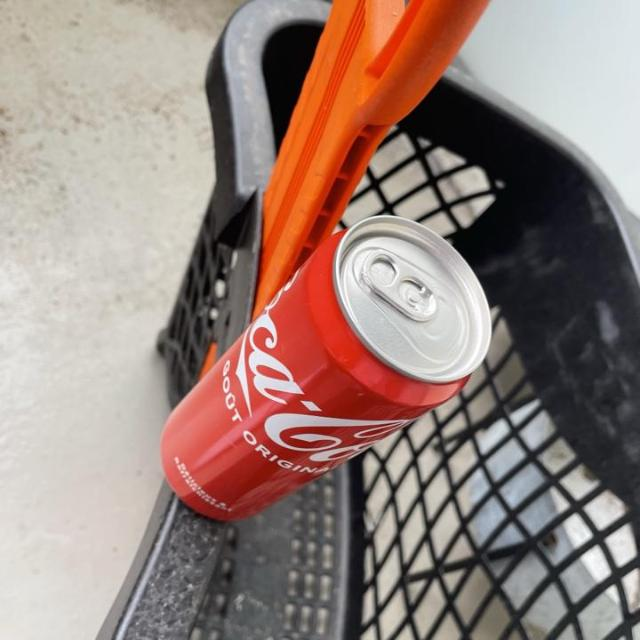can: (164, 215, 492, 522)
